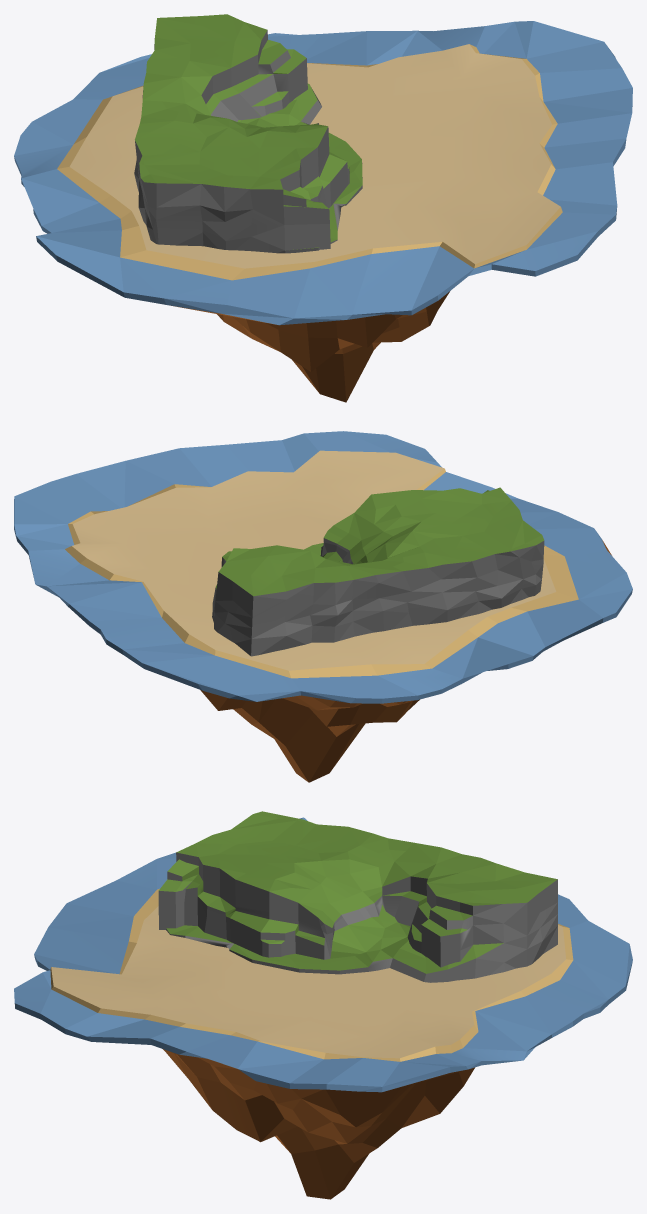
The model's file is land004.gltf.
3 renders of one model, top to bottom at view 1: azimuth 30°, elevation 25°; view 2: azimuth 150°, elevation 25°; view 3: azimuth 270°, elevation 25°, orthographic. The views are drawn at different scales.
Visible parts, largest first — view 1: node_land004_-54264; view 2: node_land004_-54264; view 3: node_land004_-54264.
Part boxes in pixels (x1,y1,x2,y2): node_land004_-54264: [14, 14, 632, 402]; node_land004_-54264: [14, 431, 632, 782]; node_land004_-54264: [14, 811, 632, 1199].
Bounding box in the file's own units: 34.07 × 16.41 × 31.28.
1 material, 1 textured.
